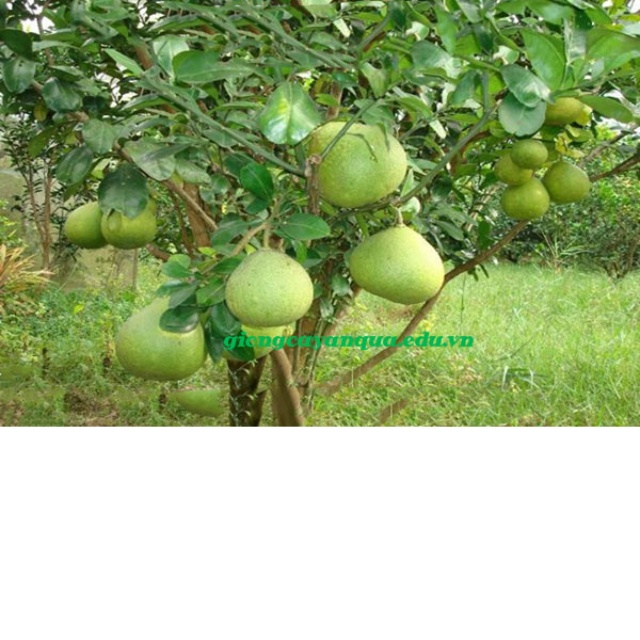buoi: (303, 117, 409, 212), (111, 294, 212, 382), (346, 223, 445, 307), (223, 246, 315, 328), (540, 159, 592, 208)
